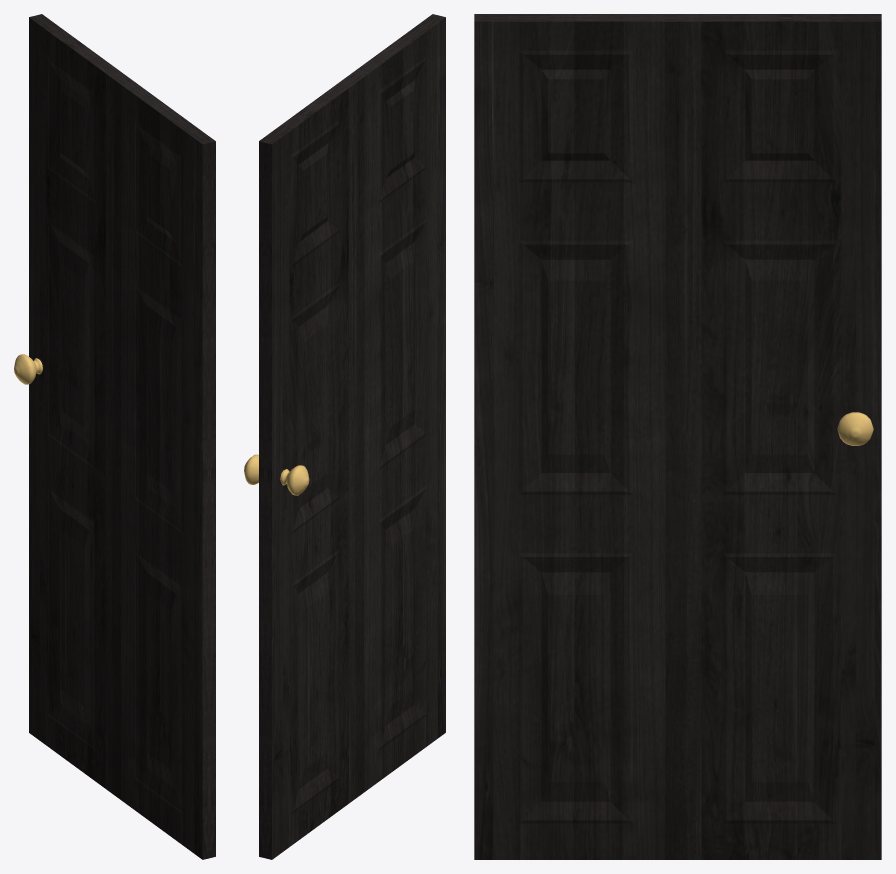
File: door.fbx
The picture shows the model from 3 angles, left to right: view 1: azimuth 30°, elevation 25°; view 2: azimuth 150°, elevation 25°; view 3: azimuth 270°, elevation 25°; orthographic projection. The views are drawn at different scales.
Visible parts, largest first — view 1: Cube; view 2: Cube; view 3: Cube.
Part boxes in pixels (x1,y1,x2,y2): Cube: (14, 14, 215, 859); Cube: (244, 14, 445, 859); Cube: (474, 14, 881, 859).
Bounding box in the file's own units: 269 × 2958 × 1303.
